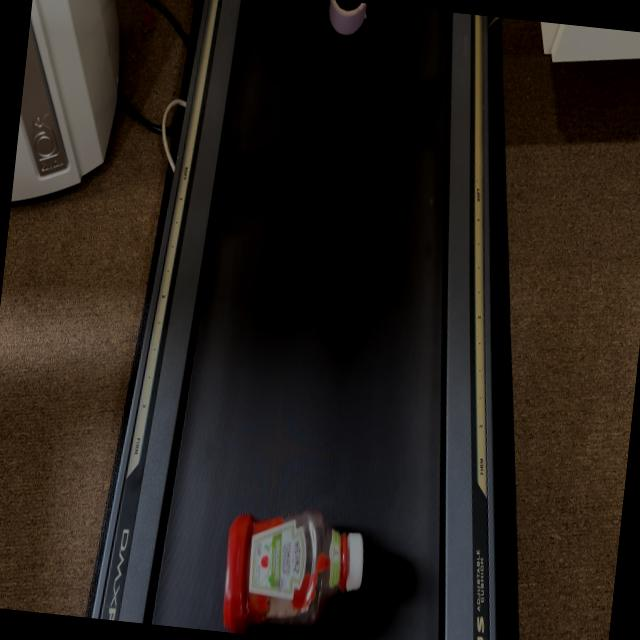Trash: (203, 462, 420, 640), (310, 0, 391, 56)
